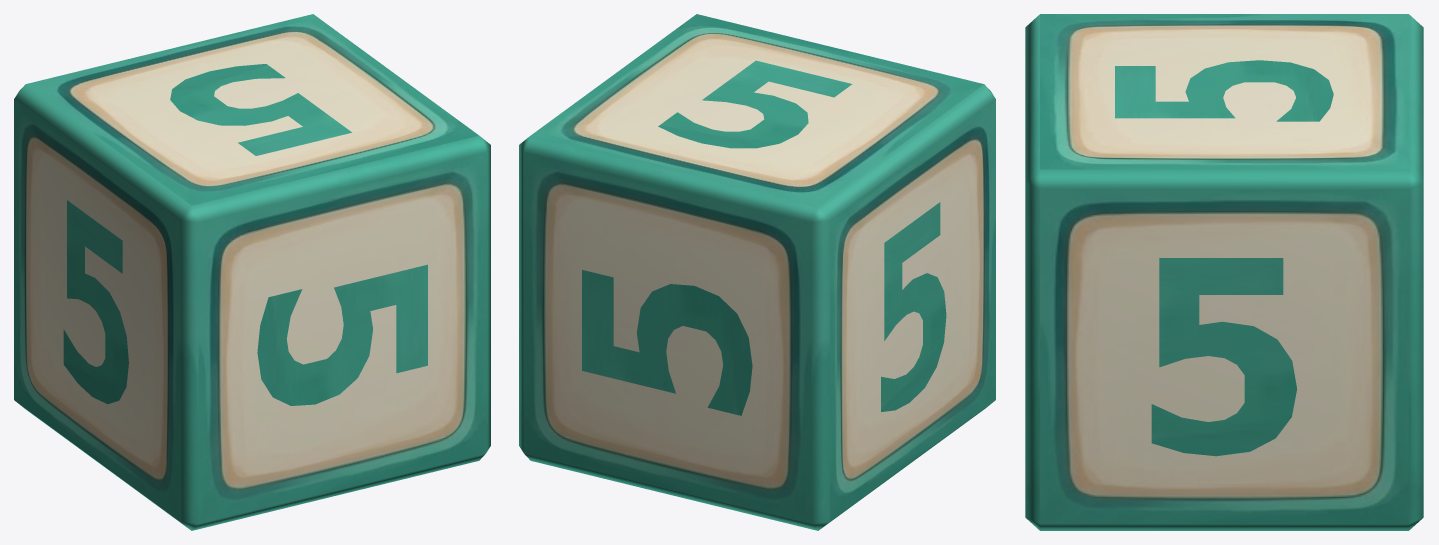
3 views of the same model, side by side, from view 1: azimuth 30°, elevation 25°; view 2: azimuth 150°, elevation 25°; view 3: azimuth 270°, elevation 25° (orthographic). The views are drawn at different scales.
Visible parts, largest first — view 1: Cube5; view 2: Cube5; view 3: Cube5.
Boxes of the visible parts, x1,y1,x2,y2 form: Cube5: (14,14,490,530); Cube5: (519,14,995,530); Cube5: (1025,14,1423,530).
Size of what is drawn, in the model's own units: 0.513 by 0.513 by 0.513.
1 material, 1 textured.
